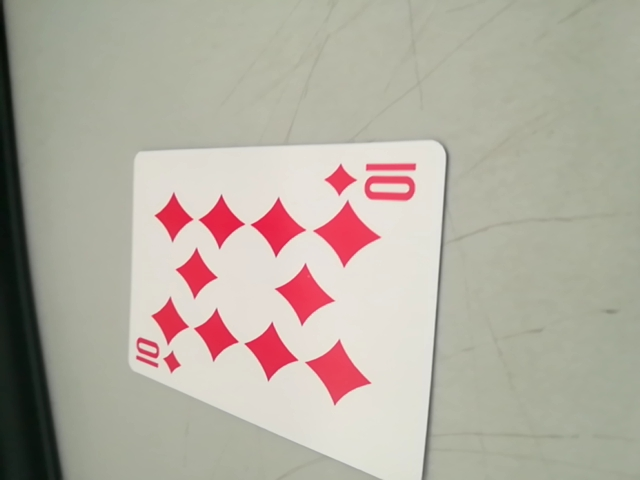fk 10: (323, 153, 425, 206), (127, 333, 188, 382)
